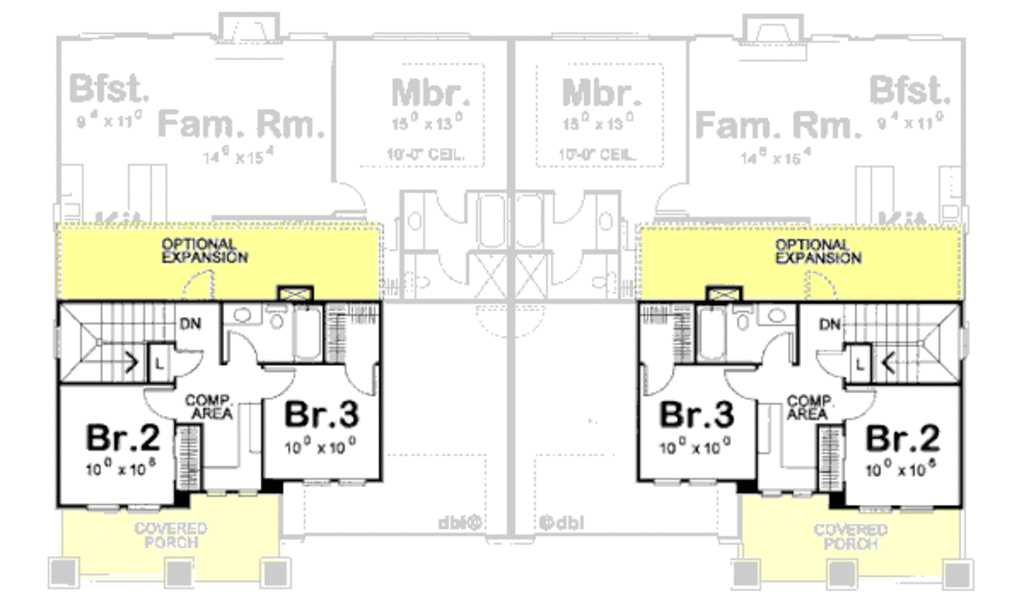door: (634, 356, 678, 400), (720, 362, 759, 406), (758, 326, 800, 366), (837, 384, 879, 423), (259, 362, 300, 400), (809, 341, 847, 381), (343, 364, 384, 398), (172, 342, 207, 381), (224, 328, 259, 364), (181, 263, 215, 299)
large_sink: (263, 300, 290, 332), (732, 301, 759, 332)
small_sink: (218, 300, 264, 325), (759, 300, 801, 327)
stairs: (55, 301, 178, 392), (842, 305, 964, 387)
tub: (289, 298, 325, 362), (699, 304, 729, 364)
window: (126, 497, 163, 518), (81, 498, 125, 515), (649, 469, 687, 488), (689, 470, 718, 492), (851, 502, 892, 517), (895, 500, 932, 513), (300, 475, 334, 489), (200, 483, 226, 498), (757, 487, 782, 501)
